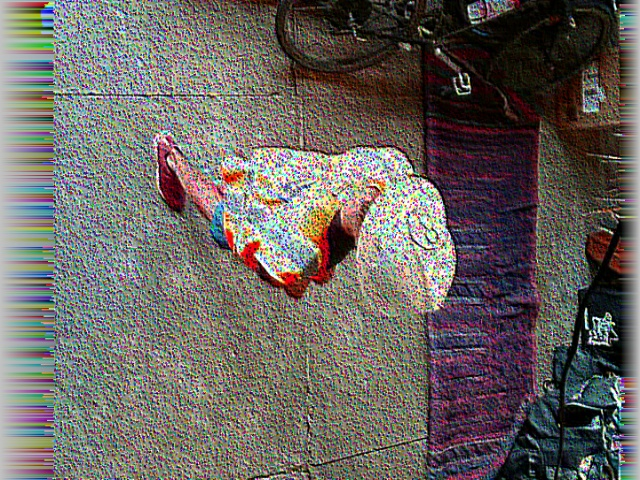eight: (406, 203, 450, 249)
